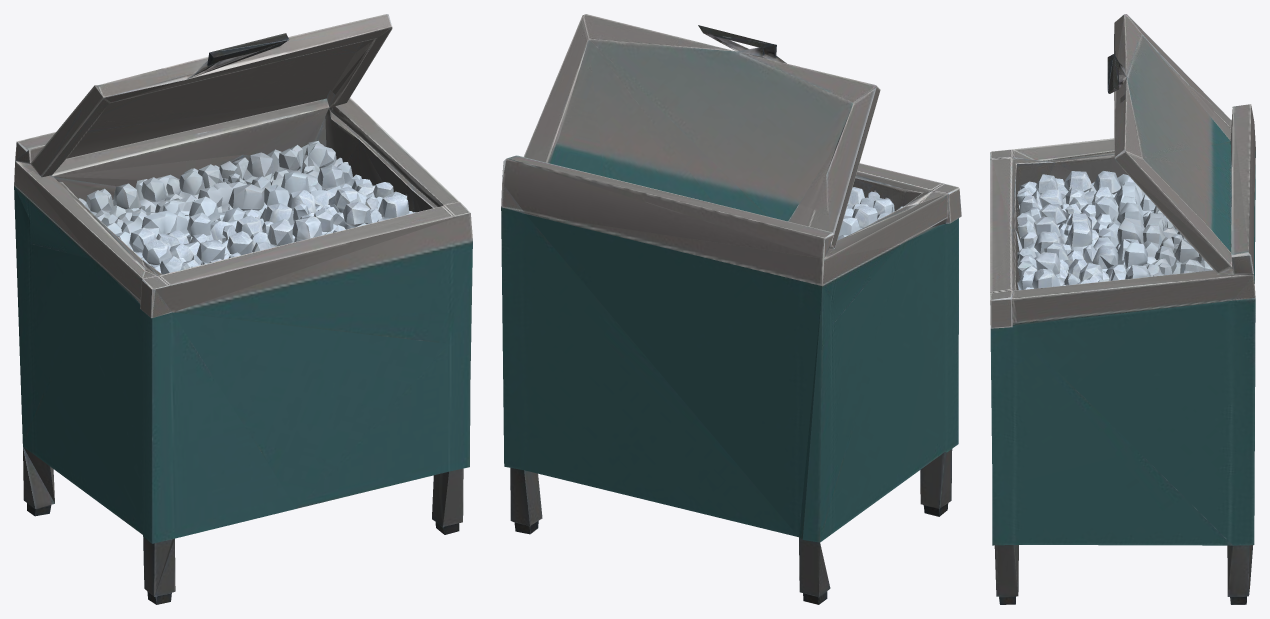
File: iceBin.glb
3 views of the same model, side by side, from view 1: azimuth 30°, elevation 25°; view 2: azimuth 150°, elevation 25°; view 3: azimuth 270°, elevation 25° (orthographic). The views are drawn at different scales.
Parts seen in each view (by area): view 1: Mesh_0; view 2: Mesh_0; view 3: Mesh_0.
Part boxes in pixels (x1,y1,x2,y2): Mesh_0: (14, 14, 472, 604); Mesh_0: (501, 14, 961, 604); Mesh_0: (990, 14, 1255, 604).
Bounding box in the file's own units: 0.594 × 0.85 × 0.442.
Materials: 1 (1 with a texture image).
